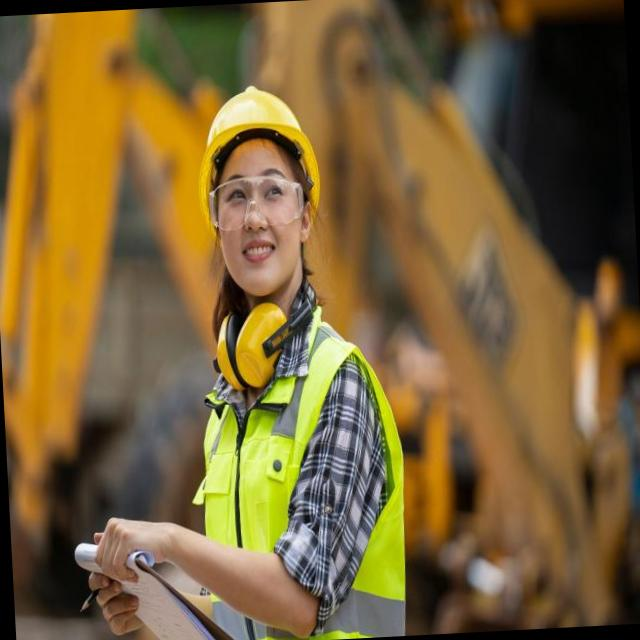Helmet: (190, 84, 322, 184)
Vest: (192, 350, 423, 640)
